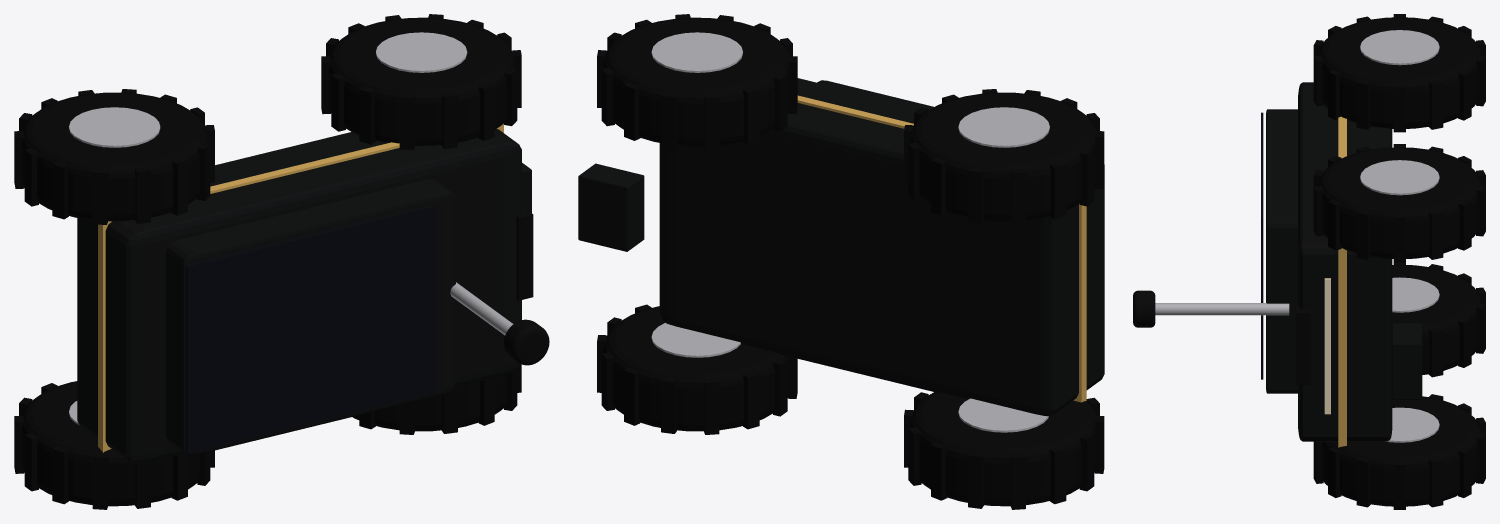
Rendered from agrobo_ugv_laser.obj.
The picture shows the model from 3 angles, left to right: view 1: azimuth 30°, elevation 25°; view 2: azimuth 150°, elevation 25°; view 3: azimuth 270°, elevation 25°; orthographic projection. The views are drawn at different scales.
Parts seen in each view (by area): view 1: ugv_chassis, ugv_solar, ugv_top, ugv_w.001, ugv_w.003, ugv_w, ugv_stripe, ugv_hub.001, ugv_hub.003, ugv_w.002, ugv_lidar, ugv_stereo (+20 smaller); view 2: ugv_chassis, ugv_w.003, ugv_w.001, ugv_w, ugv_w.002, ugv_laserhead, ugv_hub.001, ugv_hub.003, ugv_stripe, ugv_hub, ugv_hub.002, ugv_lug.008 (+23 smaller); view 3: ugv_chassis, ugv_w.003, ugv_w.001, ugv_top, ugv_w.002, ugv_w, ugv_laserhead, ugv_hub.001, ugv_hub.003, ugv_stripe, ugv_mast, ugv_hub.002 (+28 smaller).
Part boxes in pixels (x1=…): ugv_chassis: x1=77, y1=129, x2=521, y2=463; ugv_solar: x1=186, y1=205, x2=434, y2=452; ugv_top: x1=166, y1=179, x2=455, y2=455; ugv_w.001: x1=21, y1=92, x2=208, y2=221; ugv_w.003: x1=328, y1=17, x2=515, y2=145; ugv_w: x1=21, y1=381, x2=199, y2=506; ugv_stripe: x1=98, y1=123, x2=503, y2=452; ugv_hub.001: x1=69, y1=107, x2=160, y2=147; ugv_hub.003: x1=376, y1=32, x2=467, y2=72; ugv_w.002: x1=352, y1=374, x2=506, y2=431; ugv_lidar: x1=503, y1=319, x2=549, y2=365; ugv_stereo: x1=516, y1=208, x2=533, y2=300; ugv_chassis: x1=659, y1=78, x2=1104, y2=416; ugv_w.003: x1=603, y1=17, x2=790, y2=146; ugv_w.001: x1=910, y1=92, x2=1097, y2=221; ugv_w: x1=910, y1=392, x2=1097, y2=506; ugv_w.002: x1=603, y1=306, x2=790, y2=431; ugv_laserhead: x1=578, y1=163, x2=644, y2=251; ugv_hub.001: x1=958, y1=107, x2=1049, y2=147; ugv_hub.003: x1=651, y1=32, x2=742, y2=72; ugv_stripe: x1=797, y1=95, x2=1086, y2=402; ugv_hub: x1=958, y1=398, x2=1048, y2=432; ugv_hub.002: x1=651, y1=323, x2=740, y2=357; ugv_lug.008: x1=1049, y1=446, x2=1066, y2=504; ugv_chassis: x1=1298, y1=82, x2=1392, y2=441; ugv_w.003: x1=1318, y1=147, x2=1481, y2=258; ugv_w.001: x1=1318, y1=17, x2=1481, y2=128; ugv_top: x1=1266, y1=109, x2=1297, y2=393; ugv_w.002: x1=1322, y1=396, x2=1481, y2=506; ugv_w: x1=1392, y1=264, x2=1481, y2=374; ugv_laserhead: x1=1392, y1=323, x2=1422, y2=399; ugv_hub.001: x1=1360, y1=30, x2=1439, y2=65; ugv_hub.003: x1=1360, y1=160, x2=1439, y2=195; ugv_stripe: x1=1338, y1=116, x2=1346, y2=447; ugv_mast: x1=1155, y1=303, x2=1289, y2=315; ugv_hub.002: x1=1385, y1=407, x2=1439, y2=442.
Size of the model in its own units: 2.02 by 1.34 by 1.42.
